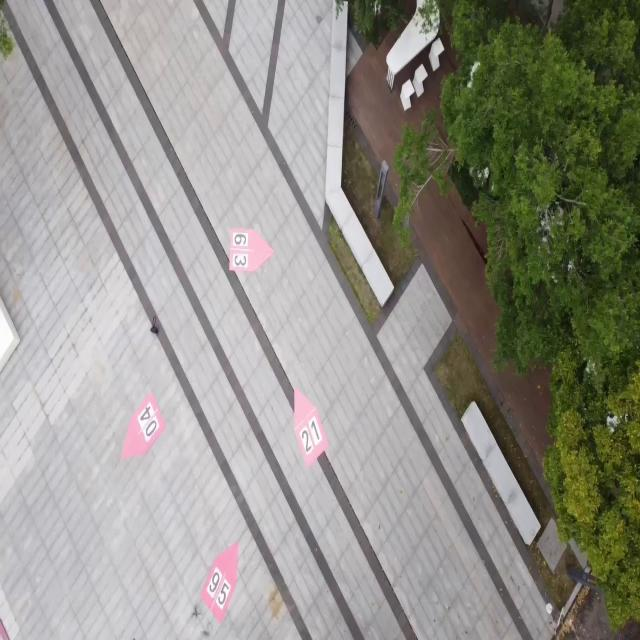-sign-: (201, 541, 239, 626), (120, 392, 166, 461), (293, 388, 328, 470), (228, 228, 273, 274)
